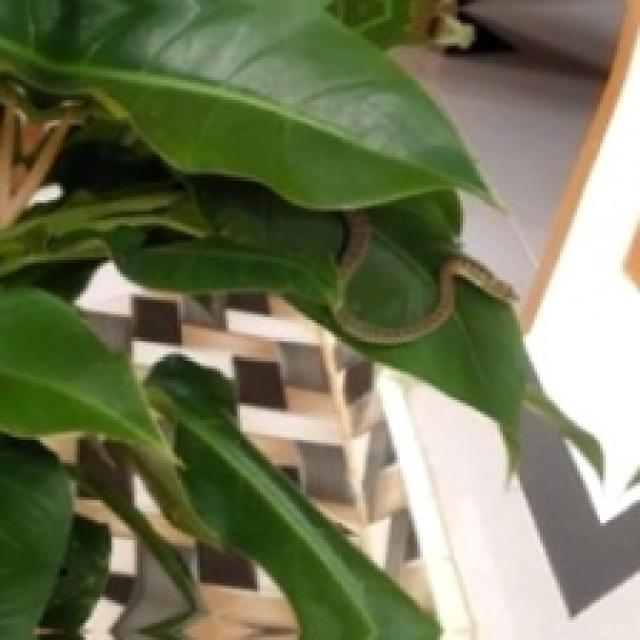paradise tree snake: (334, 211, 515, 344)
